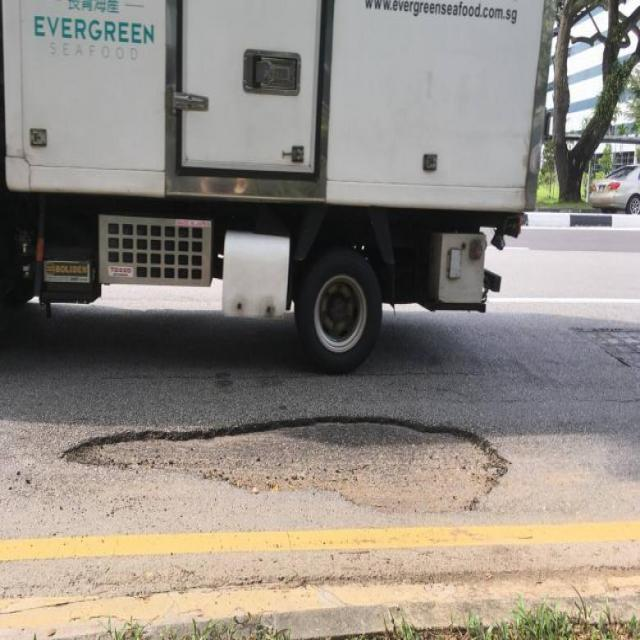Pothole: (62, 417, 507, 511)
